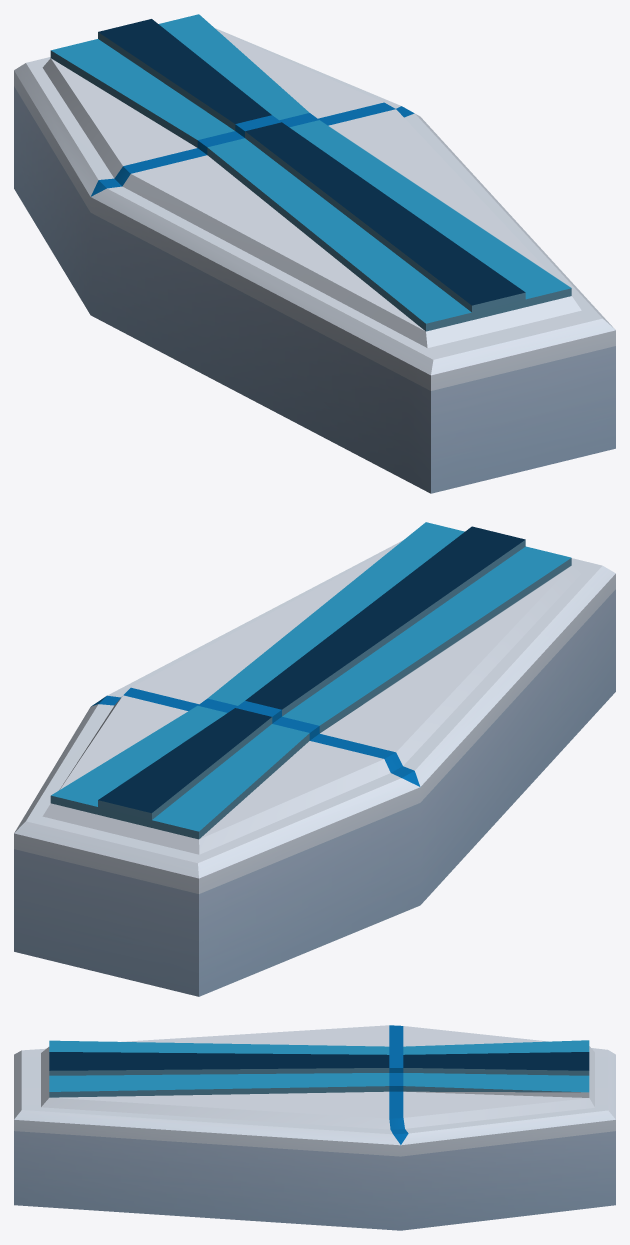
The model's file is Сoffin.fbx.
3 views of the same model, one above another, from view 1: azimuth 30°, elevation 25°; view 2: azimuth 150°, elevation 25°; view 3: azimuth 270°, elevation 25° (orthographic). The views are drawn at different scales.
Parts seen in each view (by area): view 1: Tomb Cover 01.001, Tomb_01.001; view 2: Tomb Cover 01.001, Tomb_01.001; view 3: Tomb Cover 01.001, Tomb_01.001.
Part boxes in pixels (<box>): Tomb Cover 01.001: <box>14,14,615,390</box>; Tomb_01.001: <box>14,86,615,493</box>; Tomb Cover 01.001: <box>14,522,615,893</box>; Tomb_01.001: <box>14,589,615,996</box>; Tomb Cover 01.001: <box>14,1025,615,1156</box>; Tomb_01.001: <box>14,1131,615,1230</box>.
Bounding box in the file's own units: 115 × 51.23 × 251.
